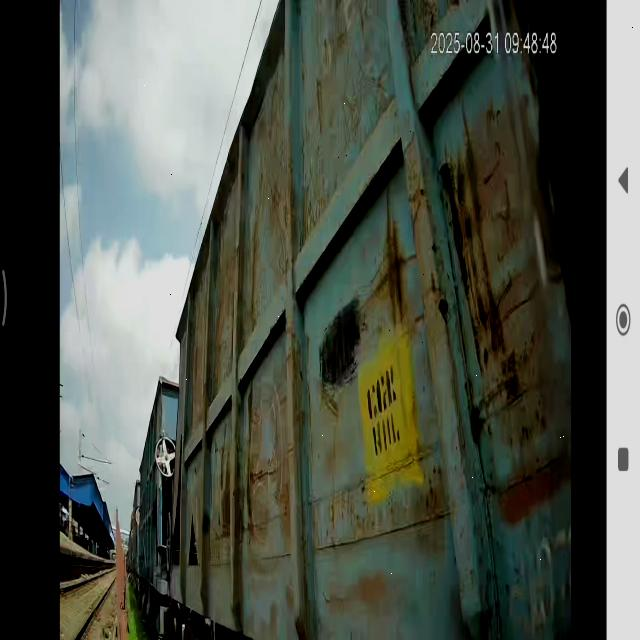coach: (180, 4, 575, 640)
